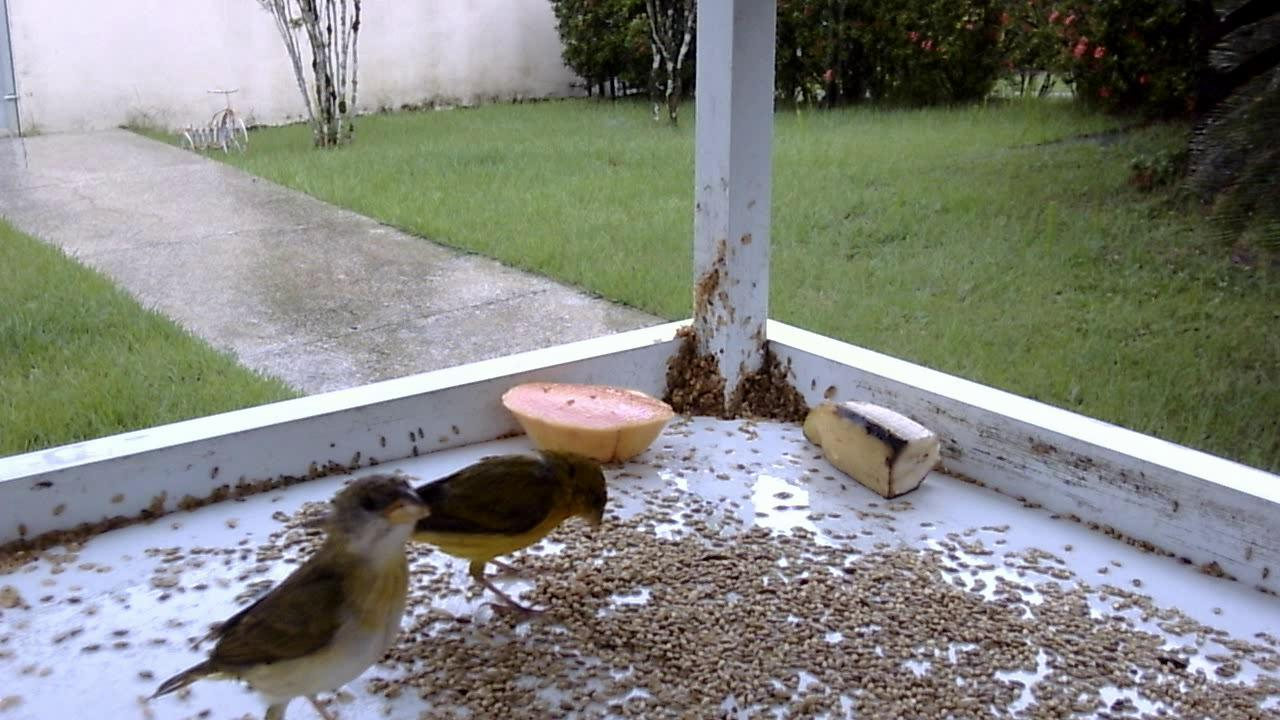canario_do_amazonas: (130, 472, 439, 720), (389, 442, 605, 631)
